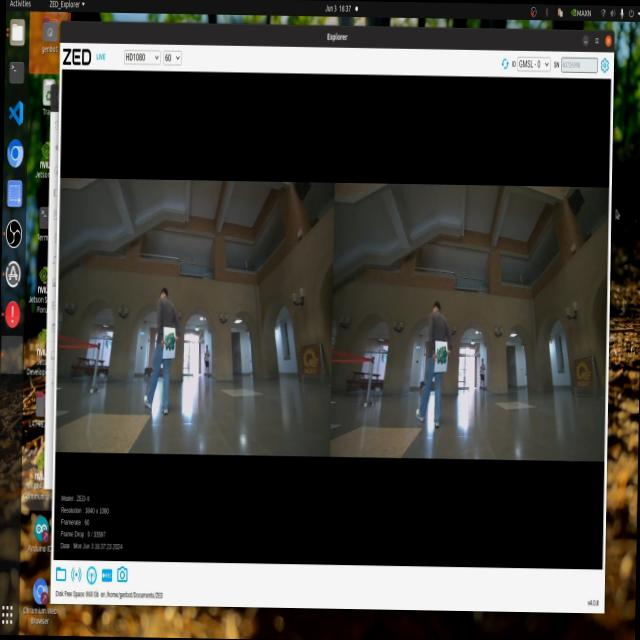green: (163, 324, 178, 354), (434, 341, 448, 373)
